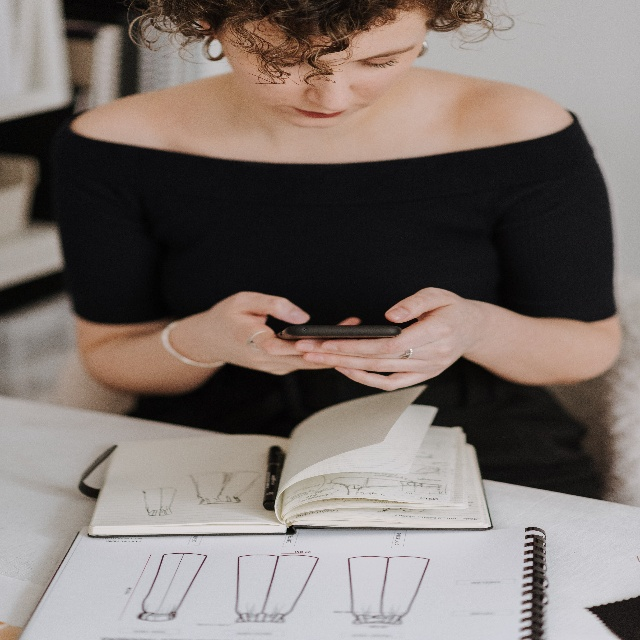Sin_guantes: (293, 287, 469, 391), (199, 290, 360, 375)
